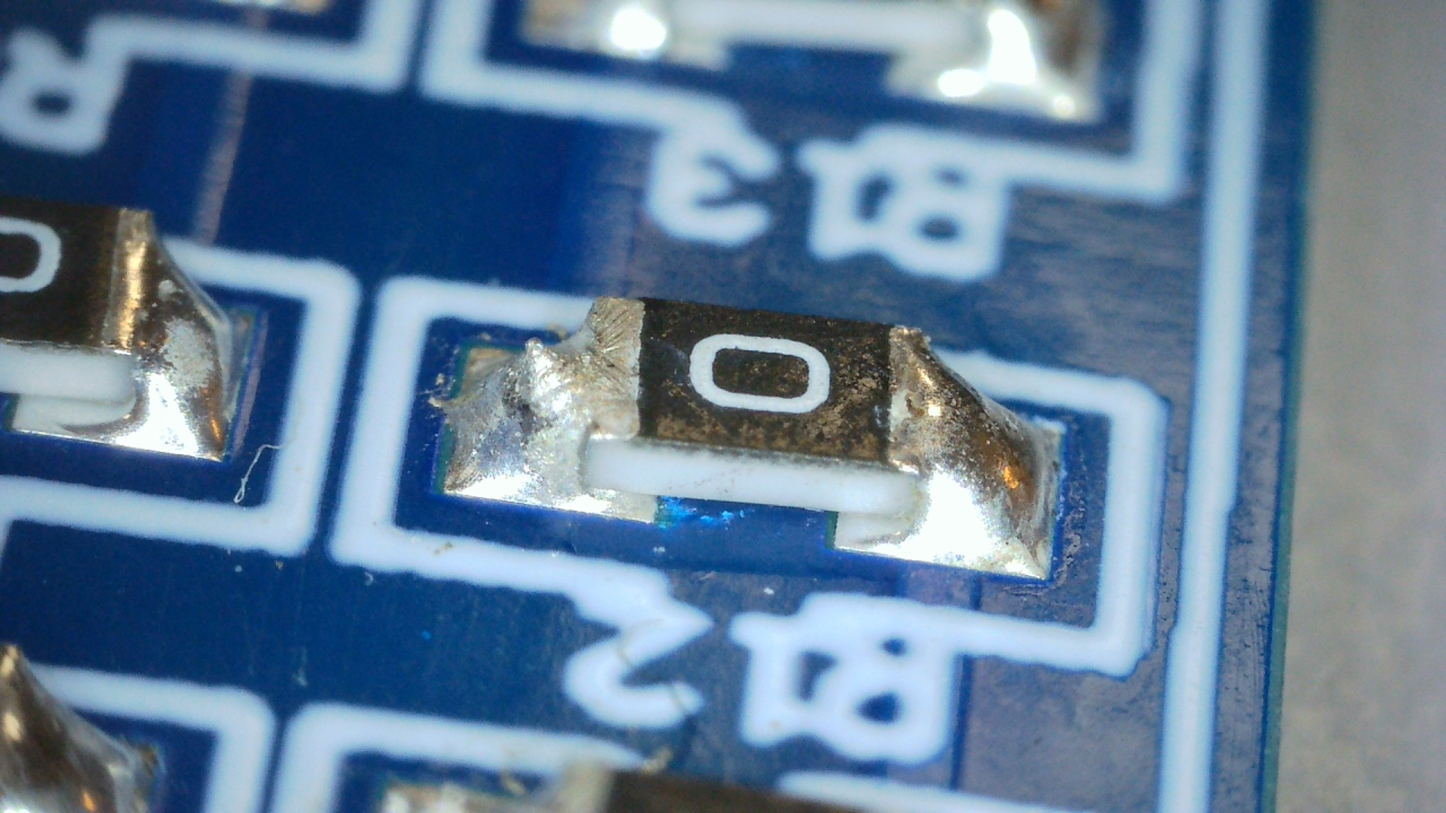NG: (431, 295, 636, 507), (890, 327, 1052, 559), (516, 338, 582, 420)
